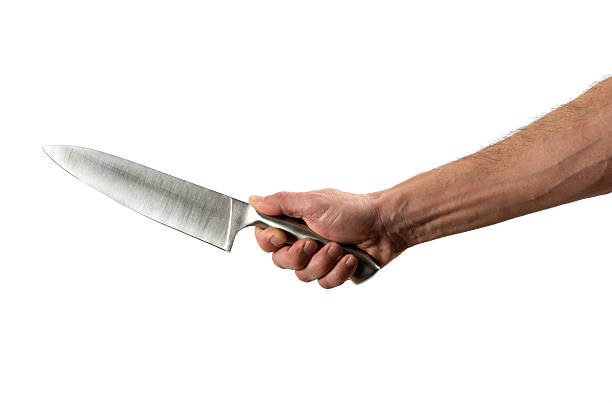knife: (40, 142, 382, 289)
